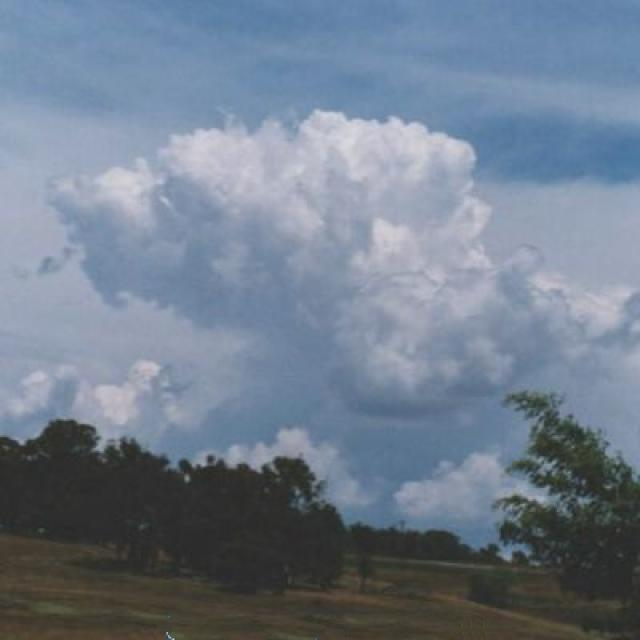Cs: (9, 80, 640, 399)
